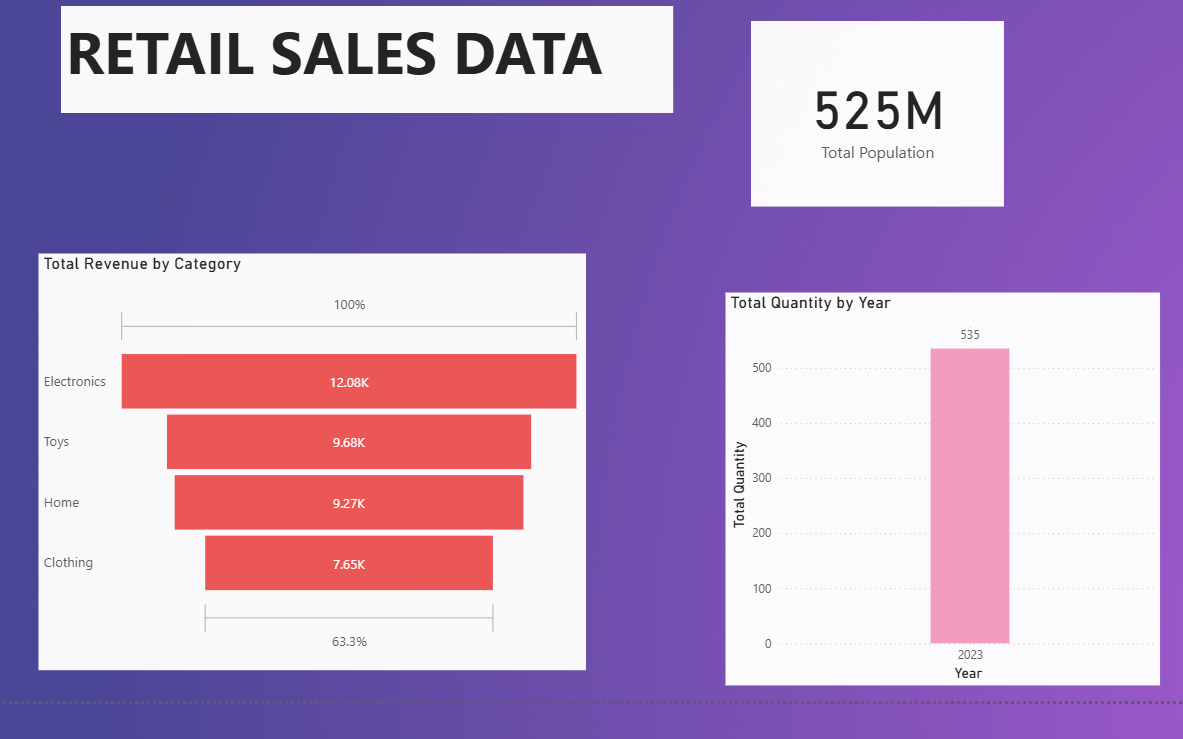

The page's visual inventory and layout, read from the dashboard file:
{"tool":"powerbi","page":{"name":"Page 1","canvas":[1280,720],"ordinal":0},"visuals":[{"type":"clusteredColumnChart","fields":{"Category":["Date Table.Year"],"Y":["Sales Fact Table.Total Quantity"]},"box":[750.2,308,438.4,396.9],"z":0},{"type":"card","fields":{"Values":["Region Table.Total Population"]},"box":[774.8,34,255.1,187.1],"z":1000},{"type":"textbox","box":[79.4,18.9,618,107.7],"z":2000},{"type":"funnel","fields":{"Y":["Sales Fact Table.Total Revenue"],"Category":["Product Table.Category"]},"box":[56,268,552.7,420.9],"z":3000}]}

Visuals, with their boxes on the page's 1280x720 design canvas (x1, y1, x2, y2). These are canvas units, not pixel positions in the 1183x739 screenshot, which may show the page scaled, cropped or inside an application window:
clusteredColumnChart - Date Table.Year x Sales Fact Table.Total Quantity: (750,308,1189,705)
card - Region Table.Total Population: (775,34,1030,221)
textbox: (79,19,697,127)
funnel - Sales Fact Table.Total Revenue x Product Table.Category: (56,268,609,689)
